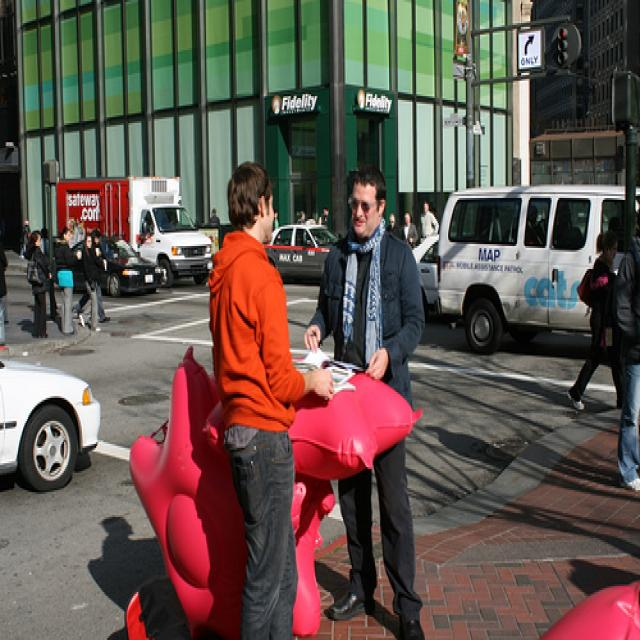Vehicle: (436, 183, 626, 356), (59, 177, 212, 289), (0, 358, 102, 495), (70, 237, 162, 299), (264, 225, 341, 277), (411, 233, 440, 310)
